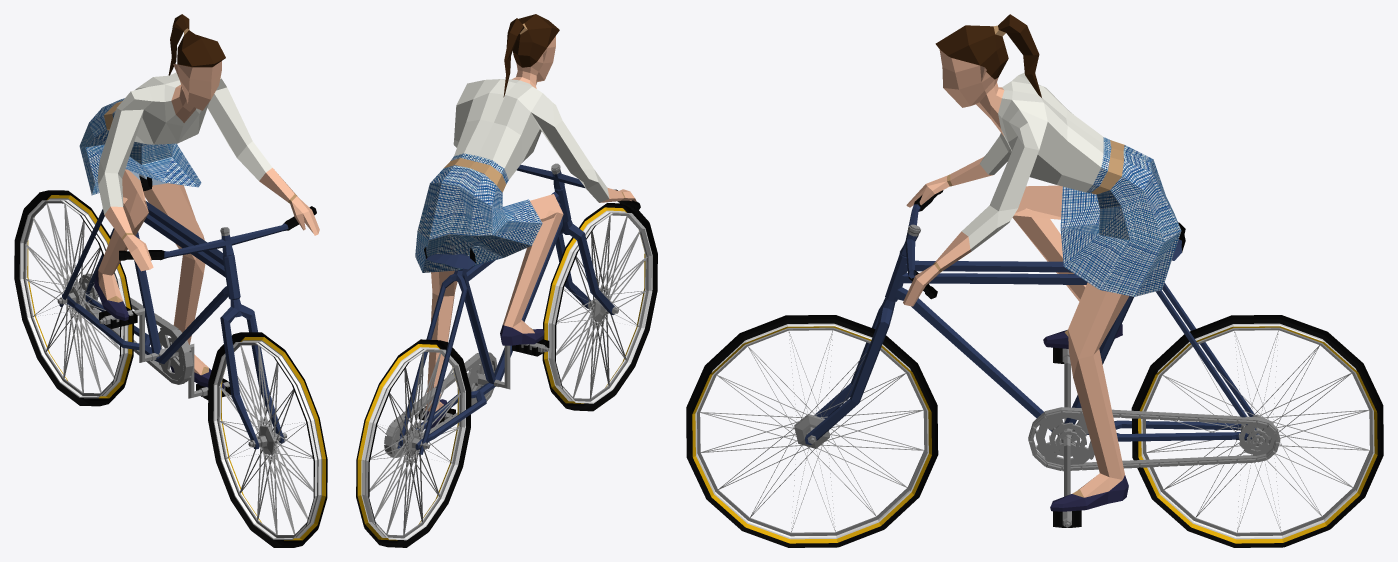
File: SpringWomanB.001.glb
3 renders of one model, left to right at view 1: azimuth 30°, elevation 25°; view 2: azimuth 150°, elevation 25°; view 3: azimuth 270°, elevation 25°, orthographic. The views are drawn at different scales.
Visible parts, largest first — view 1: SpringWomanB.001; view 2: SpringWomanB.001; view 3: SpringWomanB.001.
Boxes of the visible parts, x1,y1,x2,y2 form: SpringWomanB.001: (14, 14, 327, 547); SpringWomanB.001: (356, 14, 657, 547); SpringWomanB.001: (686, 14, 1383, 547).
Bounding box in the file's own units: 0.7301 × 1.66 × 1.97.
Materials: 6 (1 with a texture image).
